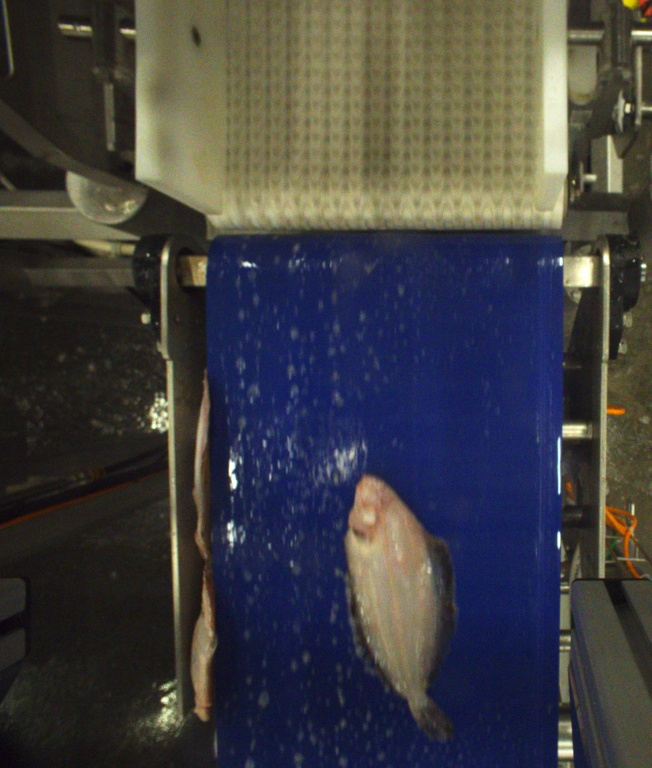WIT: (344, 473, 453, 746)
